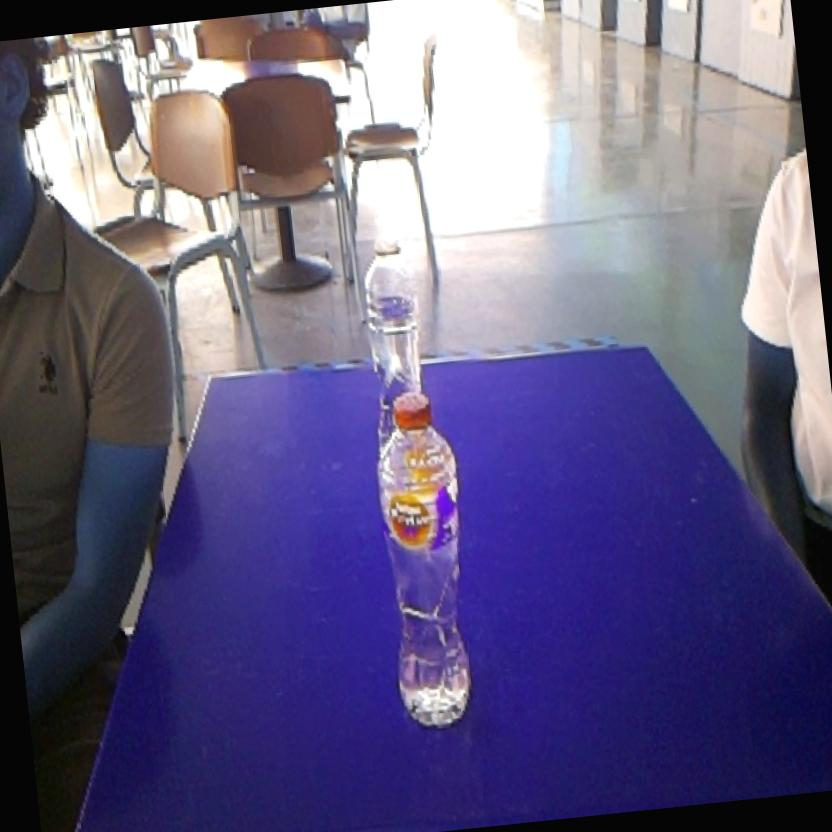good: (360, 382, 488, 744)
no_cap: (349, 220, 438, 394)
